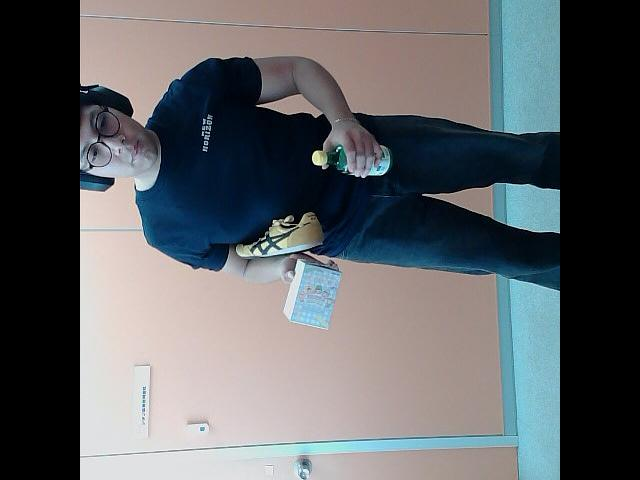Blind_box: (282, 253, 344, 328)
Lemon_sapporo: (306, 136, 391, 176)
Shoes: (229, 208, 327, 258)
